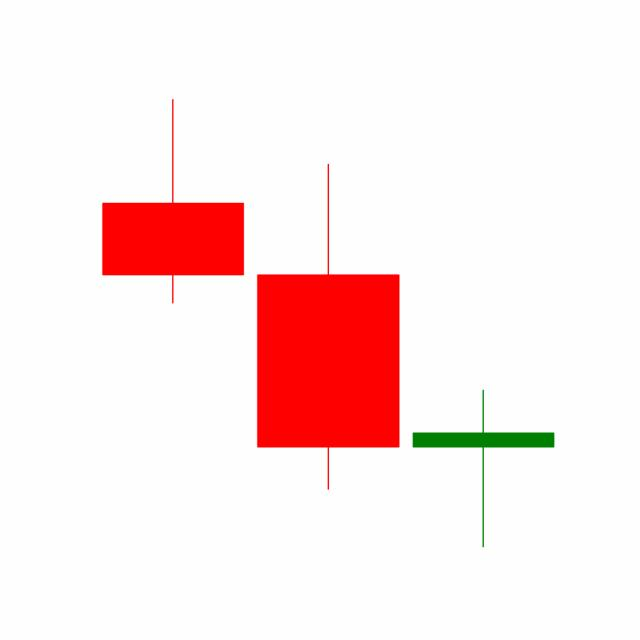Spinning Top: (405, 386, 561, 548)
